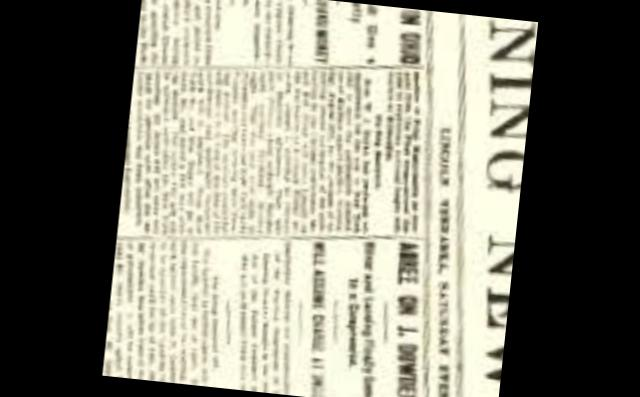cardboard paper: (102, 0, 538, 397)
